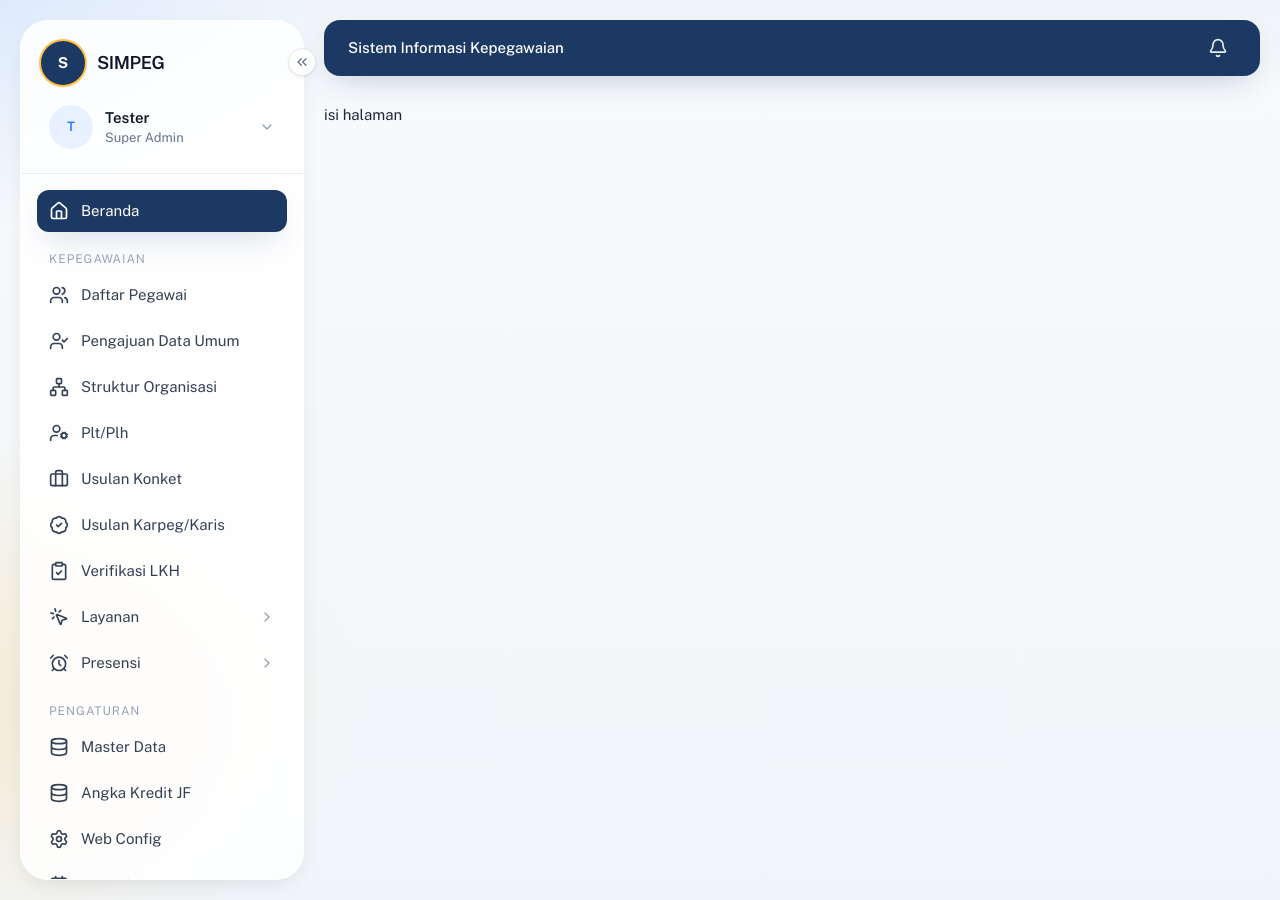
RedesignShell — profil & sesi › role 1 punya "Ganti Password" dan "Keluar" di menu profil
This screenshot has width=1280, height=900.
Click the button with test id "user-menu" at (162, 127), box [37, 97, 287, 157]
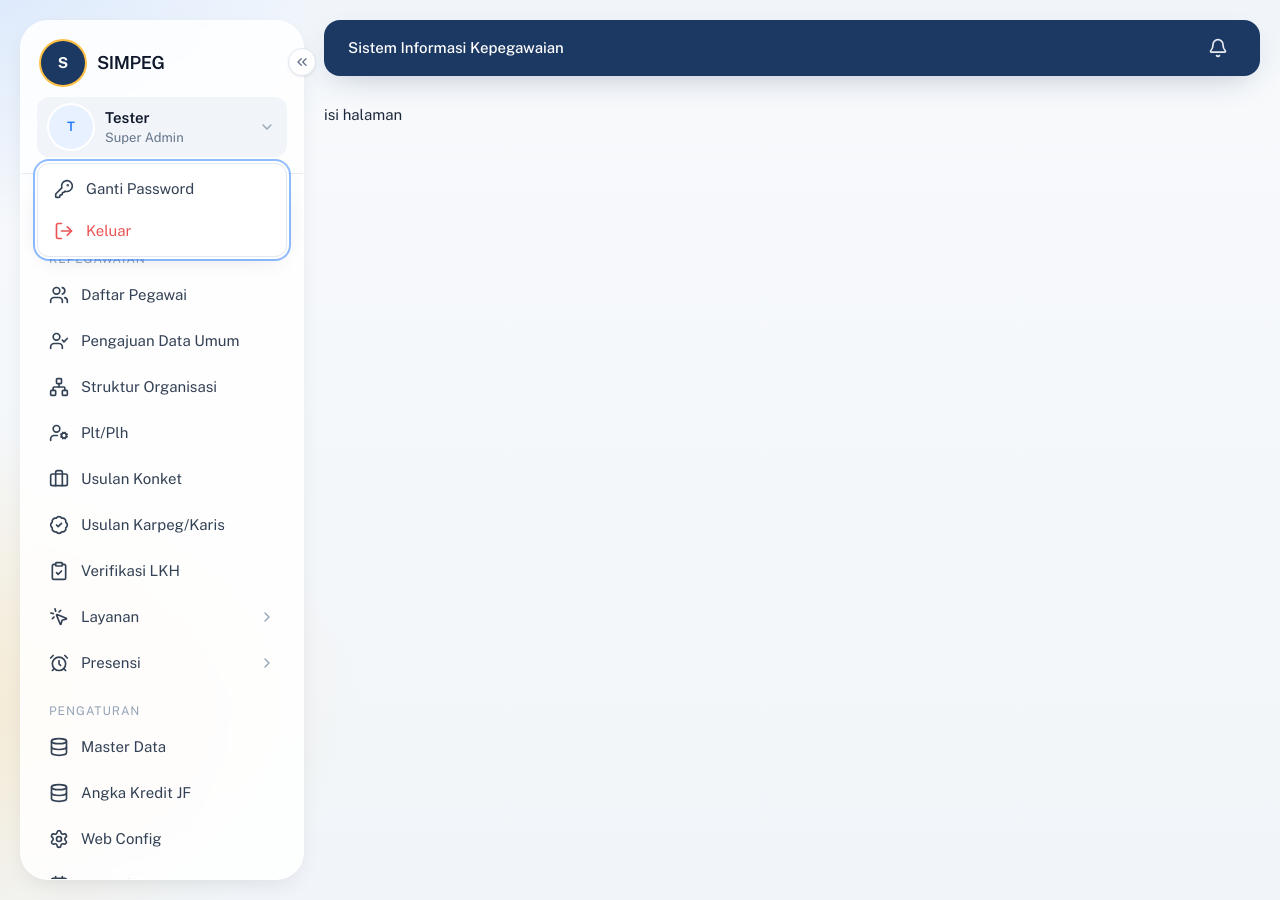
Check: the menu item with test id "nav-change-password" reads "Ganti Password", box [54, 179, 194, 199]
Check: the menu item with test id "nav-logout" reads "Keluar", box [54, 221, 132, 241]
